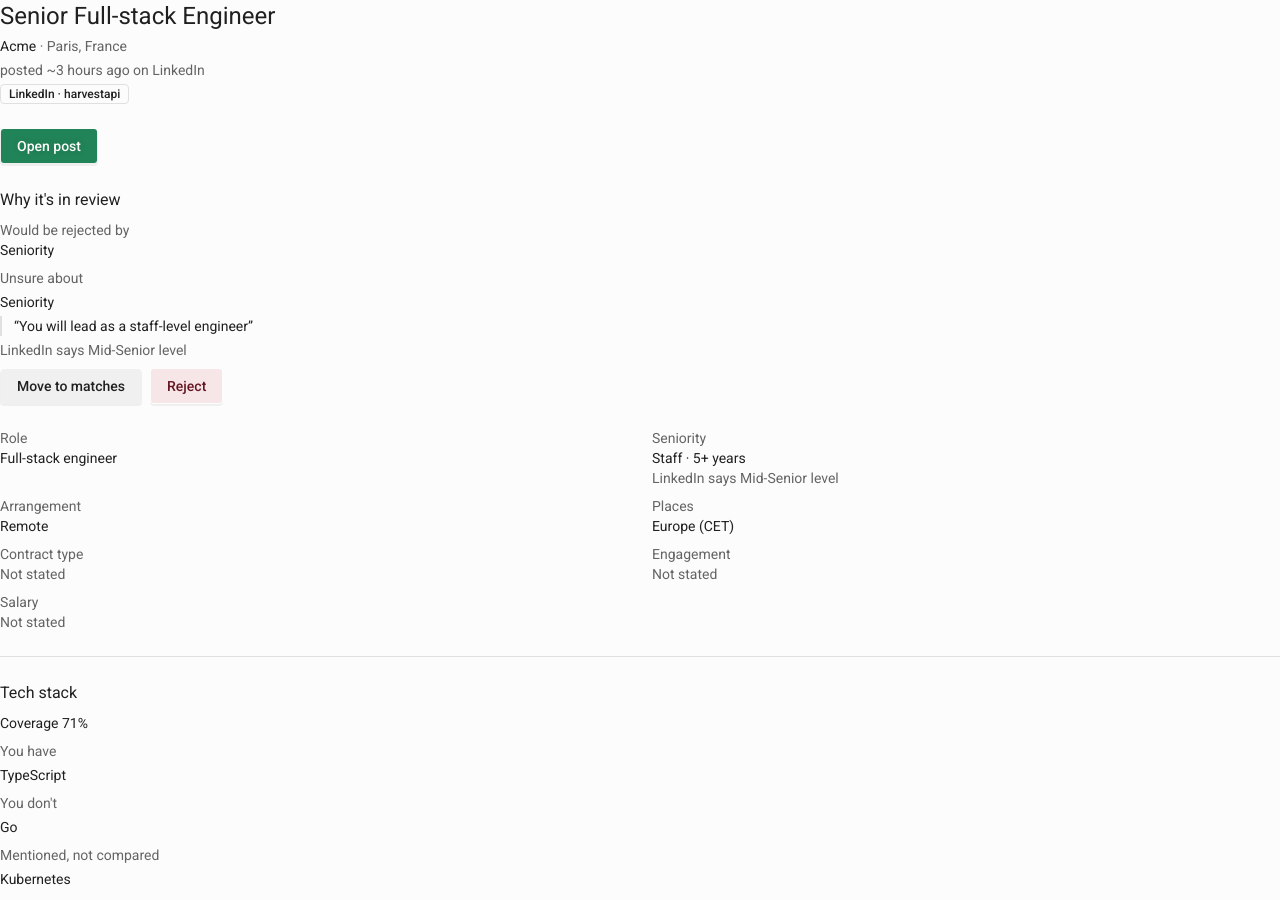
Test: MatchDetail › Reject calls onDecide with rejected and shows a toast
Later steps or results of the test are not shown.
Click the button "Reject".
click(187, 386)  # box [150,368,223,404]
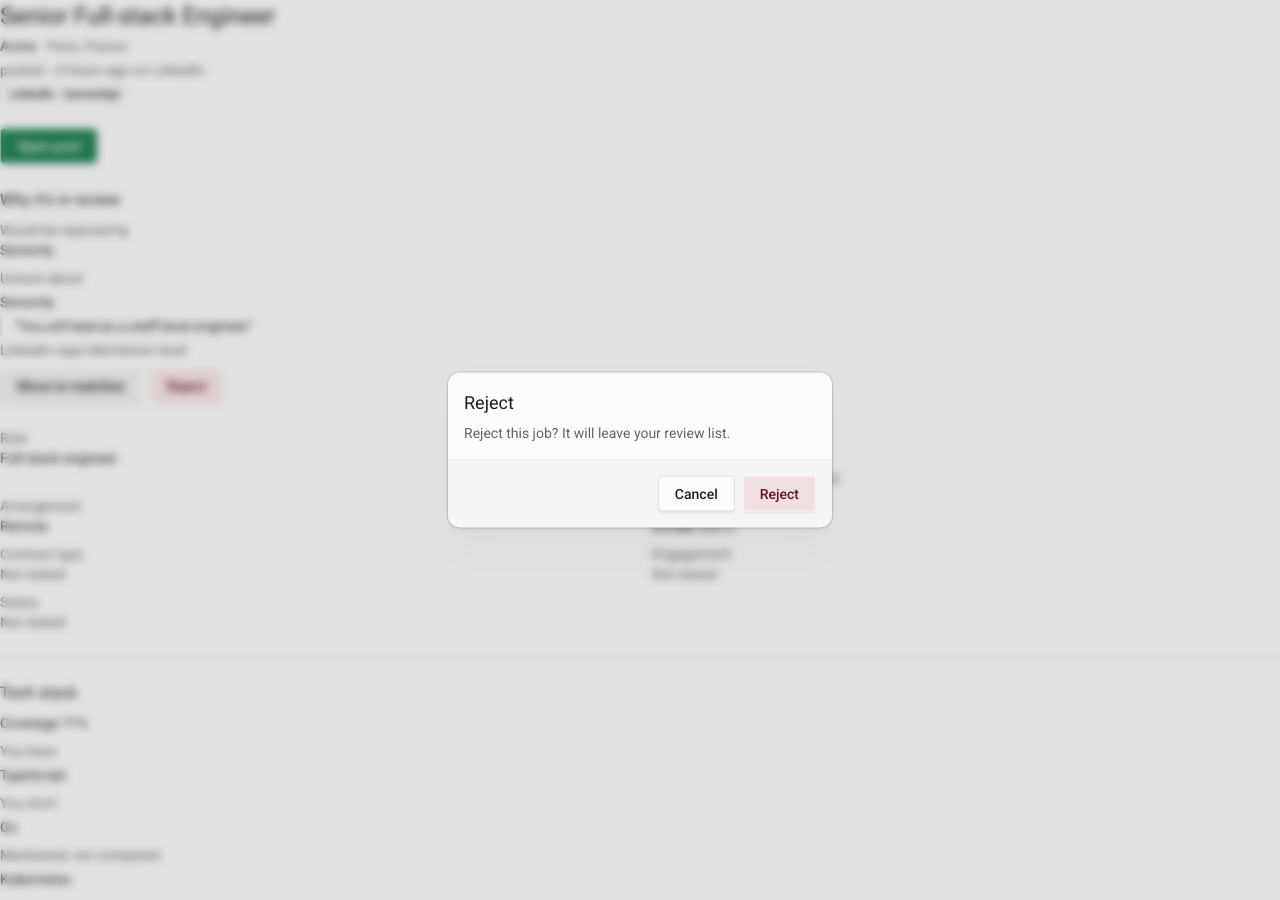
Check: the text "Reject this job? It will leave your review list." is shown, box [464,422,730,442]
